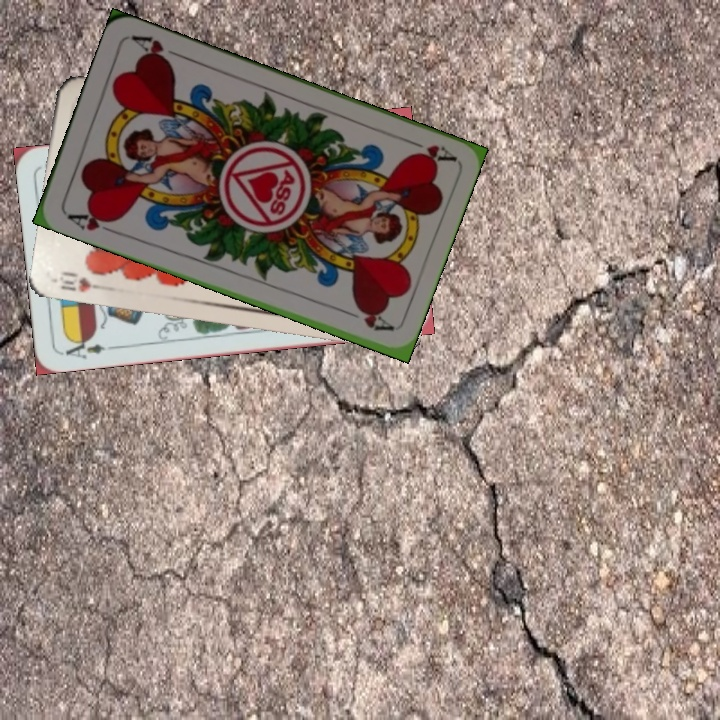EA: (61, 334, 118, 362)
H10: (51, 267, 111, 295)
HA: (399, 134, 457, 166), (63, 206, 119, 237)
